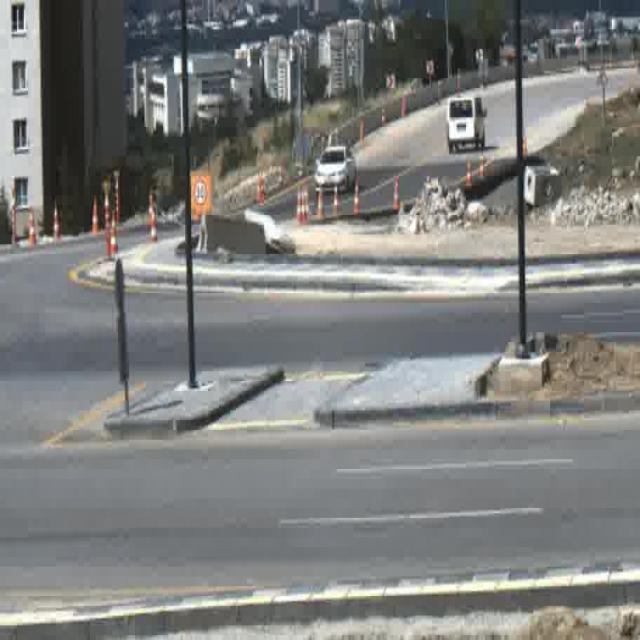Car: (314, 144, 356, 198), (448, 92, 484, 155)
